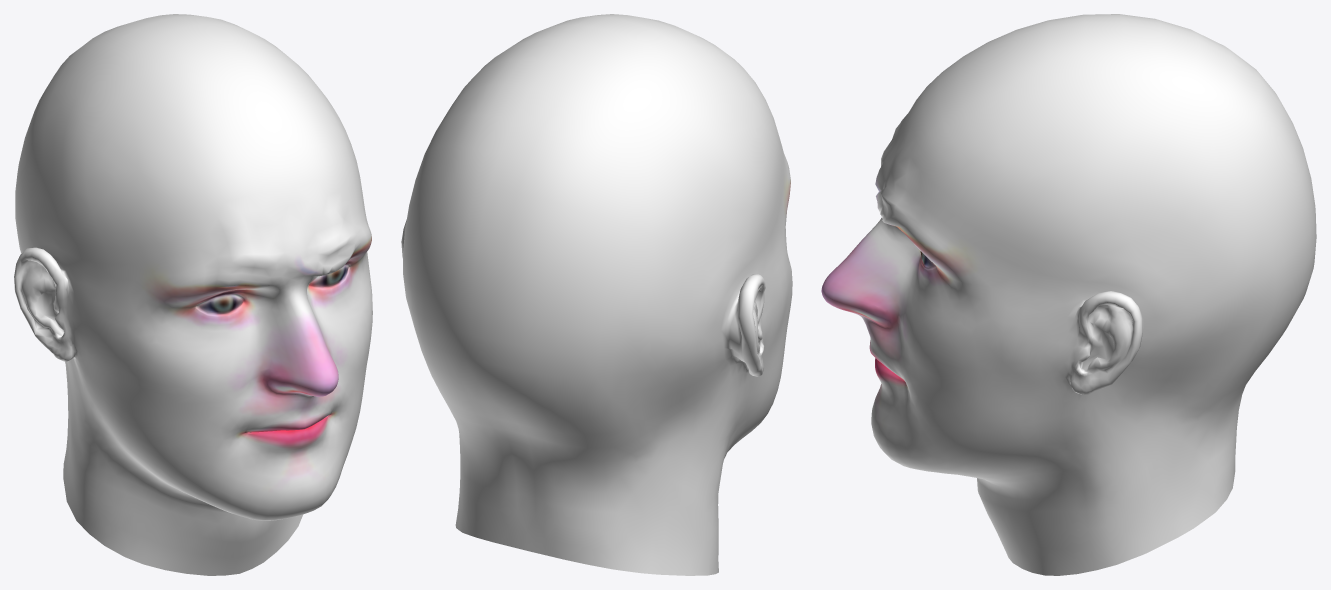
The model's file is random_anyrace_anysex_06.obj.
3 renders of one model, left to right at view 1: azimuth 30°, elevation 25°; view 2: azimuth 150°, elevation 25°; view 3: azimuth 270°, elevation 25°, orthographic. The views are drawn at different scales.
Visible parts, largest first — view 1: HeadHires; view 2: HeadHires; view 3: HeadHires.
Part boxes in pixels (bbox=[...]): HeadHires: bbox=[14, 14, 372, 575]; HeadHires: bbox=[401, 14, 792, 575]; HeadHires: bbox=[821, 14, 1316, 575].
Bounding box in the file's own units: 190 × 283 × 243.
3 materials, 3 textured.
